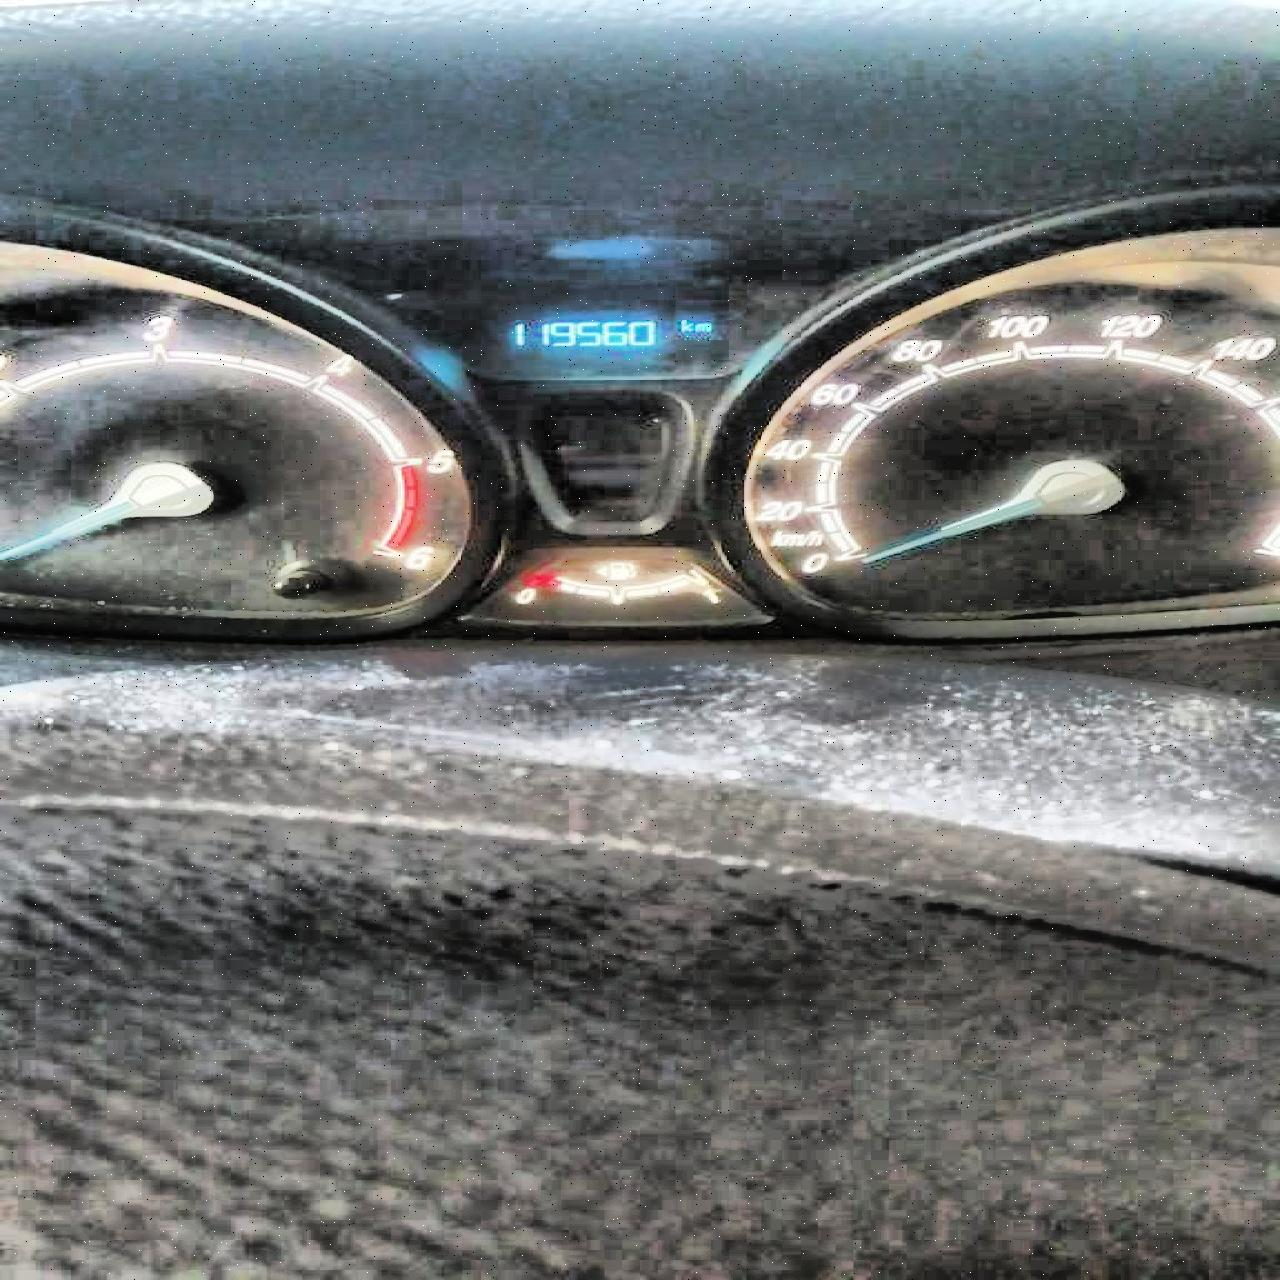0: (625, 319, 655, 346)
1: (509, 320, 527, 345), (536, 321, 546, 347)
5: (576, 319, 600, 346)
6: (600, 319, 625, 346)
9: (546, 320, 573, 348)
X: (675, 318, 692, 333), (692, 321, 712, 331)
odometer: (415, 301, 767, 384)
